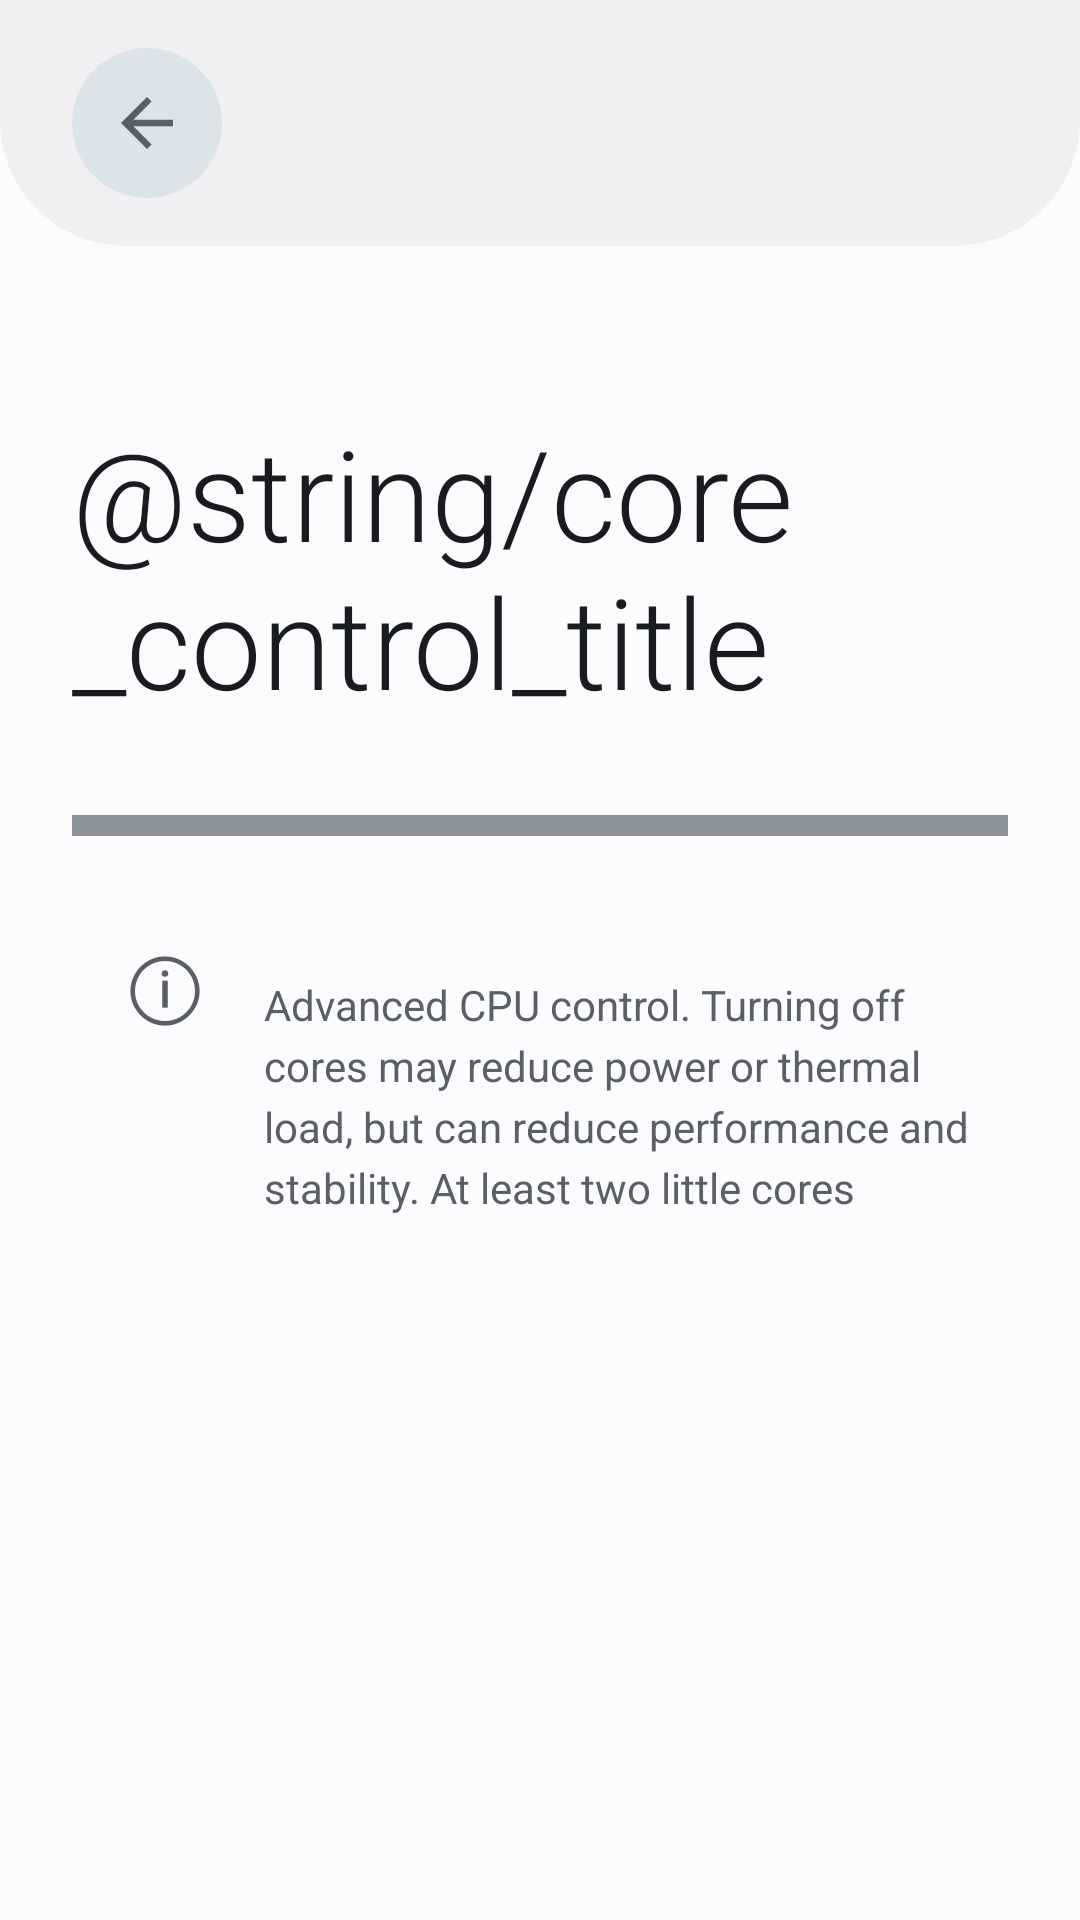

Point at icon controls on the screen. Image size 1080w x 1920h, points as (x=x, y=y).
arrow back: (x=147, y=123)
